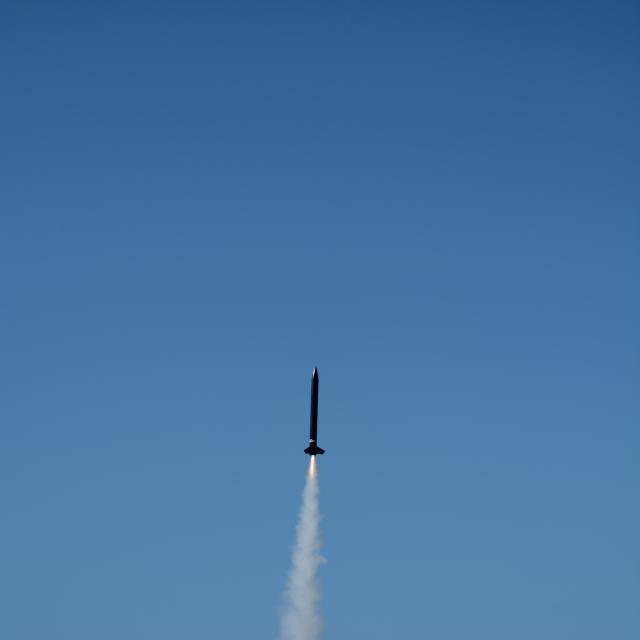Rocket: (303, 366, 326, 456)
